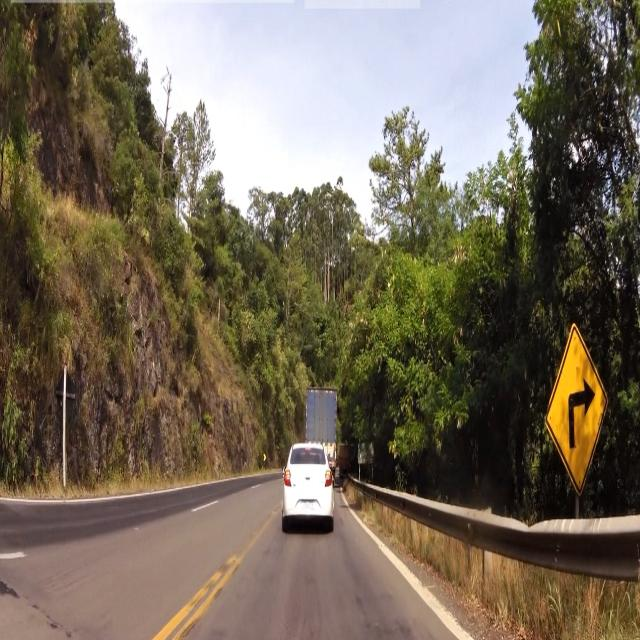A-1b: (540, 313, 614, 506)
